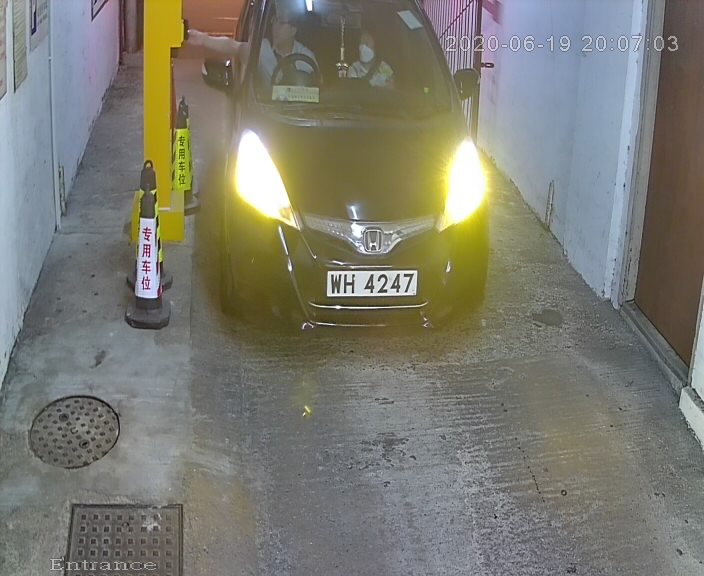privatecar: (194, 3, 495, 344)
